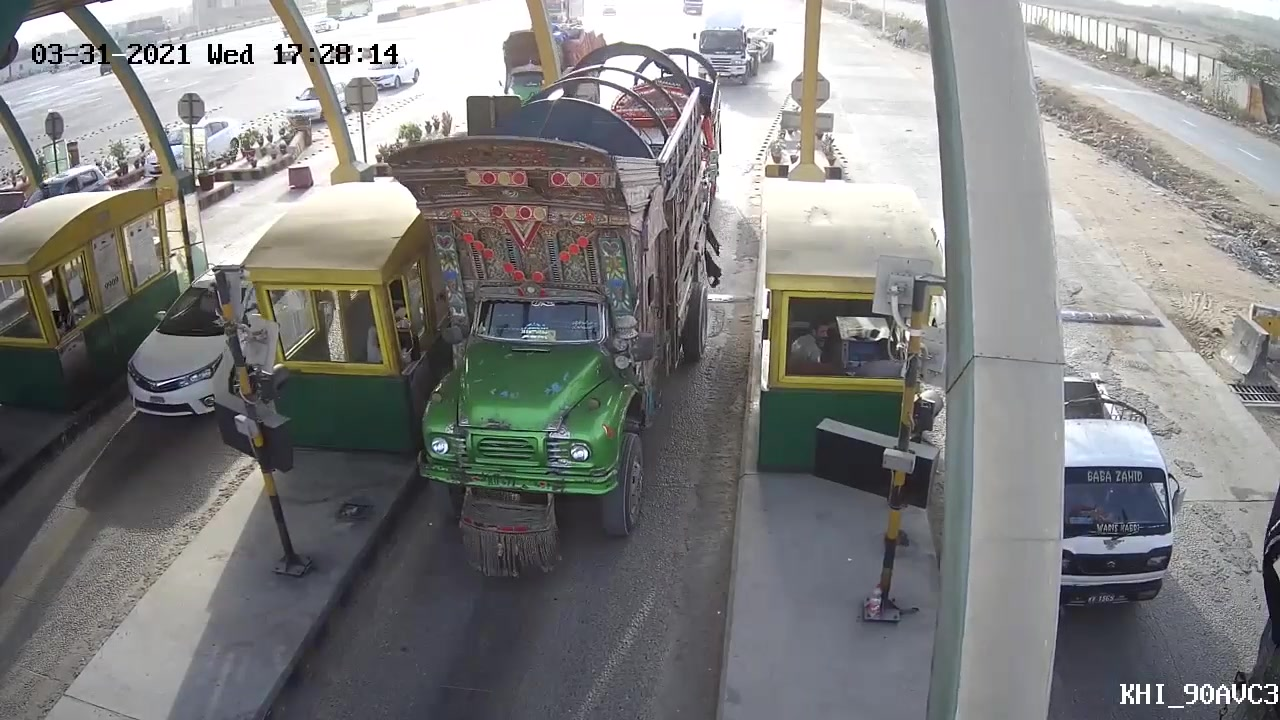F5: (374, 53, 730, 555)
